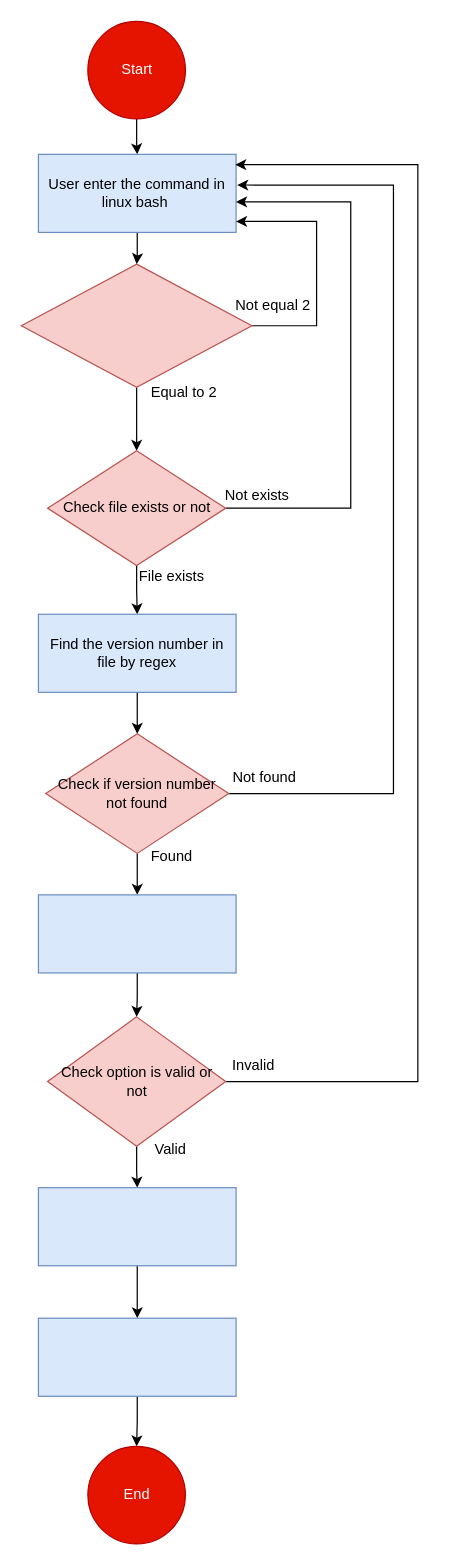
The diagram is 449 pixels wide and 1565 high, and some of its shapes have lost their labels. Each missing label, with the centre of its shape:
Check the number of arguments: [136,325]
Extract the version number into 3 small pieces: MAJOR, MINOR, PATCH: [136,933]
Find and replace the first occurrence the old pattern and the new pattern: [136,1356]
Pumb version according to the option and merge it: [136,1226]
